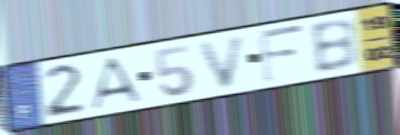2: (41, 62, 90, 121)
5: (151, 42, 197, 99)
A: (88, 55, 146, 113)
B: (307, 16, 360, 76)
F: (256, 23, 307, 86)
V: (195, 31, 250, 91)
